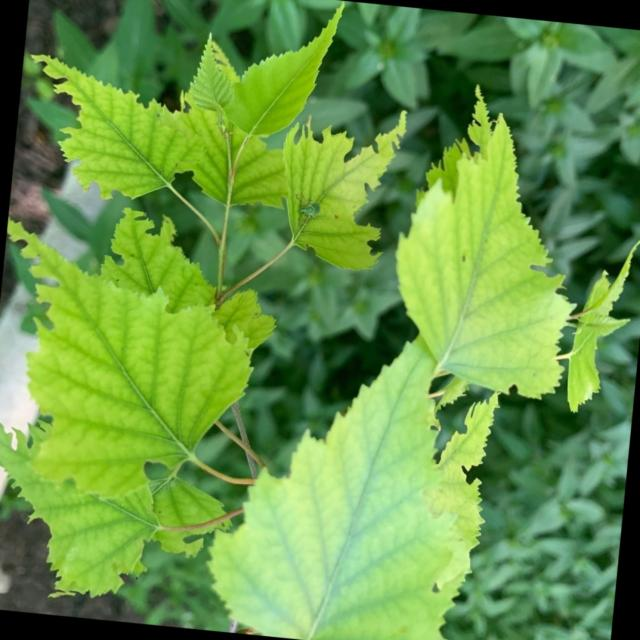Chlorosis: (22, 42, 596, 628)
